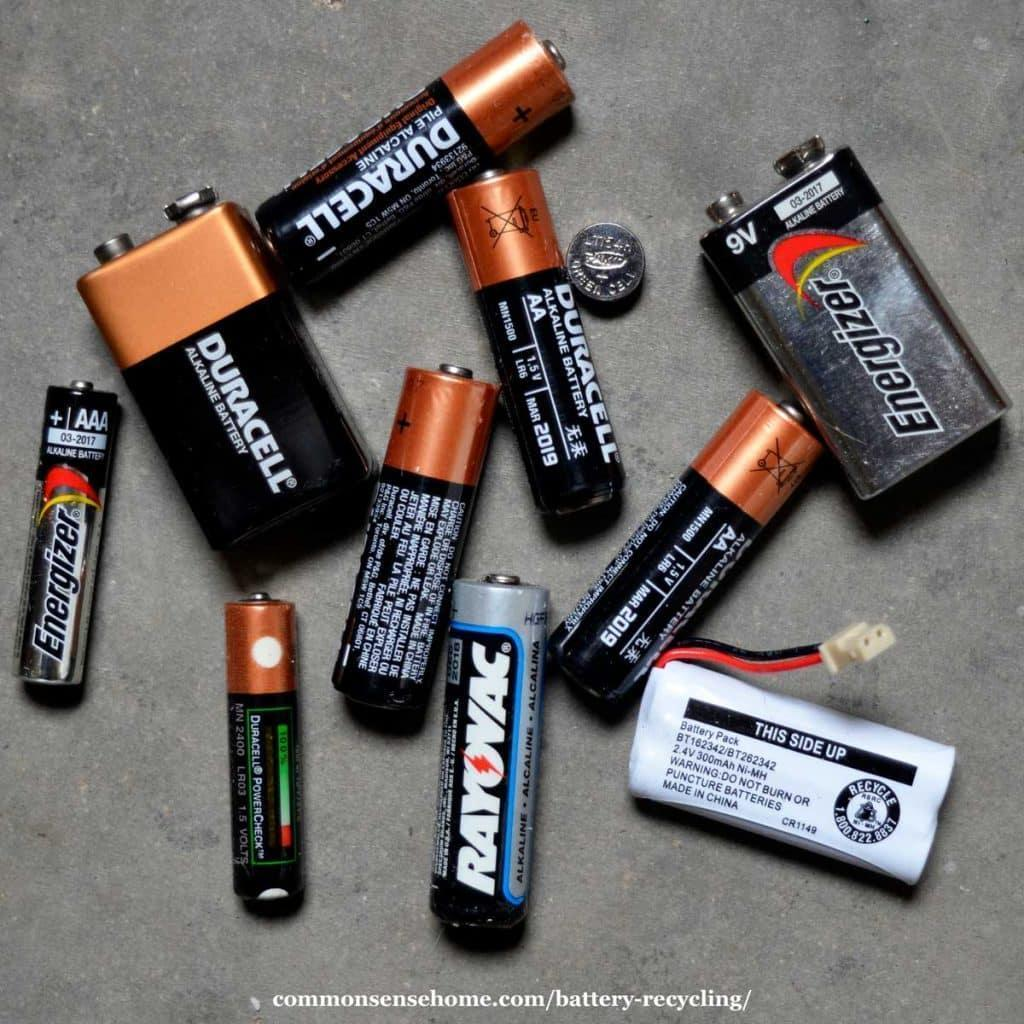9V: (698, 134, 1015, 503), (75, 186, 375, 559)
AA: (541, 386, 828, 713), (250, 15, 584, 295), (444, 167, 632, 522), (324, 359, 502, 716), (423, 566, 553, 934), (10, 377, 127, 690), (223, 586, 307, 912)
COIN: (563, 219, 649, 306)
